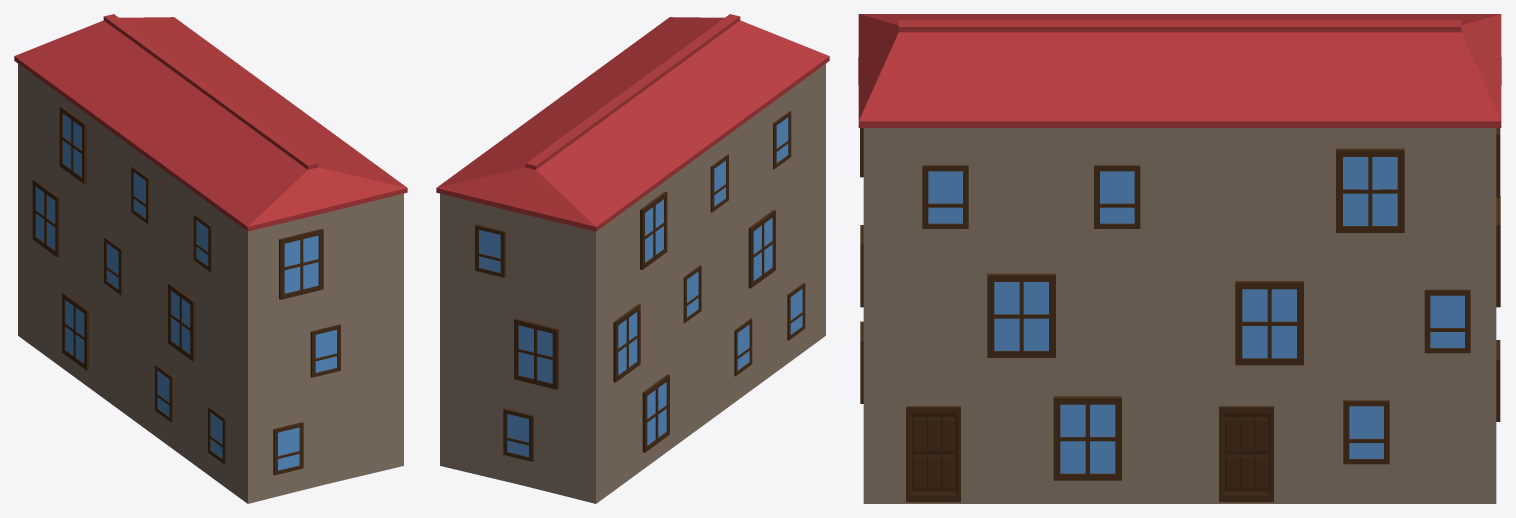
The model's file is House4.fbx.
3 views of the same model, side by side, from view 1: azimuth 30°, elevation 25°; view 2: azimuth 150°, elevation 25°; view 3: azimuth 270°, elevation 25° (orthographic). The views are drawn at different scales.
Parts seen in each view (by area): view 1: Casa4, VentanaGrande.005, VentanaGrande.008, VentanaGrande.009, VentanaGrande.006, VentanaGrande.007, VentanaChica.007, VentanaChica.006, VentanaChica.011, VentanaChica.012, VentanaChica.010, VentanaChica.009 (+1 smaller); view 2: Casa4, VentanaGrande.004, VentanaGrande.009, VentanaGrande.008, VentanaGrande.007, VentanaGrande.006, VentanaChica.004, VentanaChica.005, VentanaChica.011, VentanaChica.010, VentanaChica.008, VentanaChica.012 (+1 smaller); view 3: Casa4, VentanaGrande, VentanaGrande.001, VentanaGrande.002, VentanaGrande.003, Puerta, Puerta.001, VentanaChica.003, VentanaChica.002, VentanaChica, VentanaChica.001.
Boxes of the visible parts, x1,y1,x2,y2 form: Casa4: [14, 14, 407, 503]; VentanaGrande.005: [279, 229, 323, 299]; VentanaGrande.008: [168, 283, 195, 361]; VentanaGrande.009: [32, 179, 59, 257]; VentanaGrande.006: [62, 292, 89, 370]; VentanaGrande.007: [59, 106, 86, 184]; VentanaChica.007: [273, 422, 303, 475]; VentanaChica.006: [310, 324, 340, 377]; VentanaChica.011: [131, 166, 149, 224]; VentanaChica.012: [104, 237, 122, 295]; VentanaChica.010: [193, 214, 211, 272]; VentanaChica.009: [208, 406, 225, 464]; Casa4: [436, 14, 829, 503]; VentanaGrande.004: [514, 318, 558, 389]; VentanaGrande.009: [613, 304, 640, 382]; VentanaGrande.008: [748, 210, 775, 288]; VentanaGrande.007: [640, 191, 667, 269]; VentanaGrande.006: [642, 374, 669, 452]; VentanaChica.004: [475, 224, 505, 277]; VentanaChica.005: [503, 408, 533, 461]; VentanaChica.011: [710, 154, 728, 212]; VentanaChica.010: [773, 111, 791, 169]; VentanaChica.008: [734, 318, 752, 376]; VentanaChica.012: [683, 265, 701, 323]; Casa4: [858, 14, 1501, 503]; VentanaGrande: [987, 273, 1055, 357]; VentanaGrande.001: [1235, 281, 1303, 365]; VentanaGrande.002: [1336, 148, 1404, 232]; VentanaGrande.003: [1053, 396, 1121, 480]; Puerta: [906, 406, 960, 502]; Puerta.001: [1219, 406, 1273, 502]; VentanaChica.003: [1343, 400, 1389, 464]; VentanaChica.002: [1424, 289, 1470, 353]; VentanaChica: [922, 165, 968, 228]; VentanaChica.001: [1094, 165, 1140, 228].
Bounding box in the file's own units: 1875 × 3449 × 4698.
